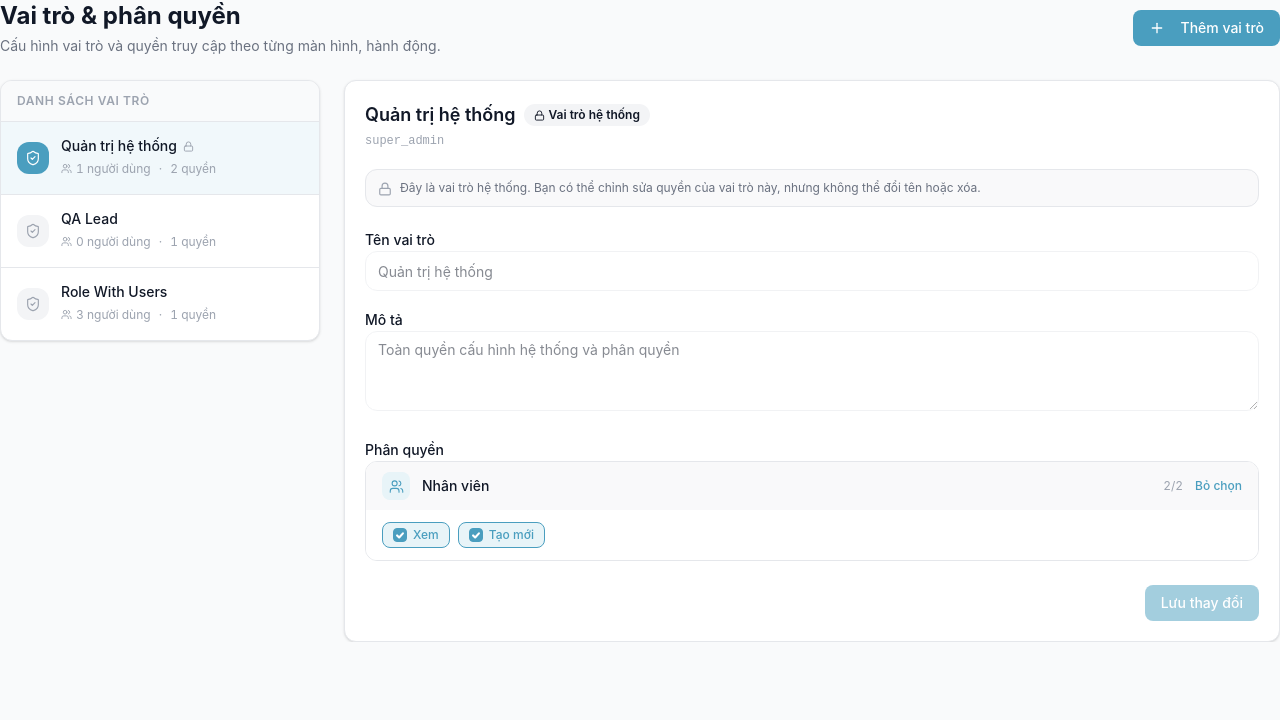
Test: RolesPage › opens the create sheet when the create button is clicked
The image size is (1280, 720).
Click the button "Thêm vai trò" at (1206, 28), box x1=1132 y1=10 x2=1279 y2=46
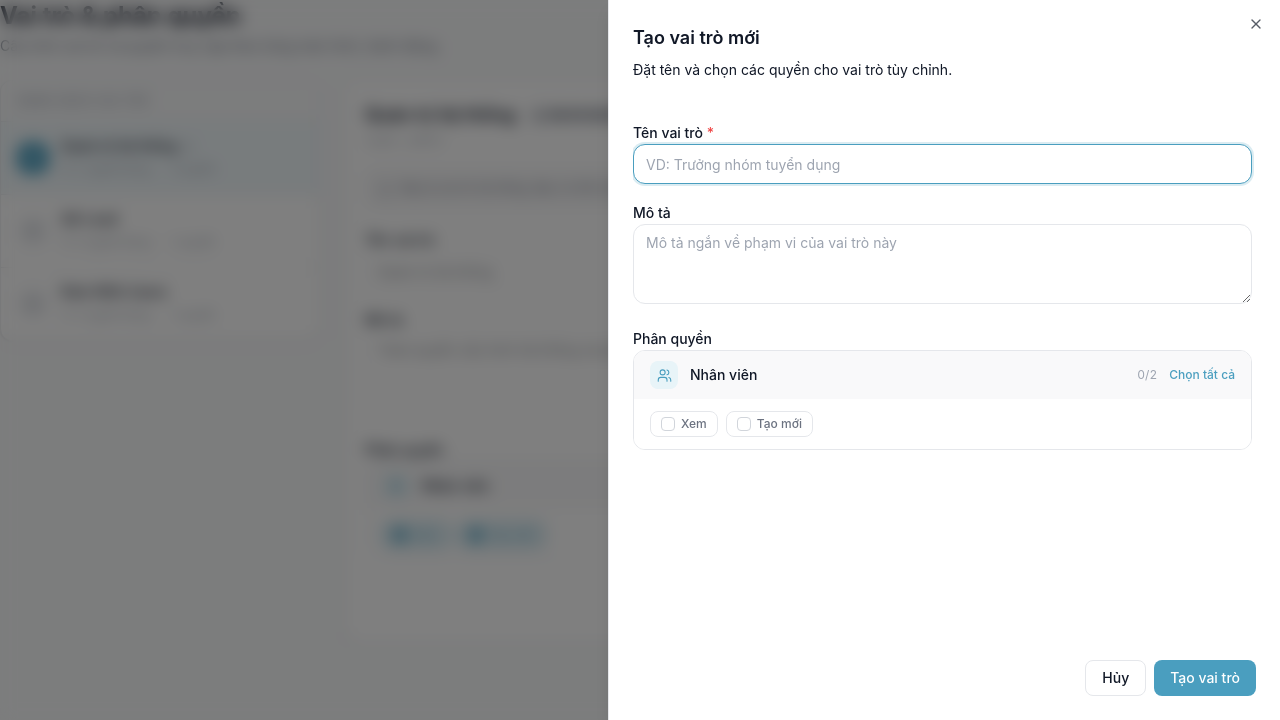
Now the heading "Tạo vai trò mới" is shown, box x1=633 y1=27 x2=760 y2=48
